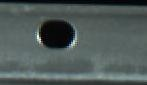holes: (37, 18, 78, 49)
